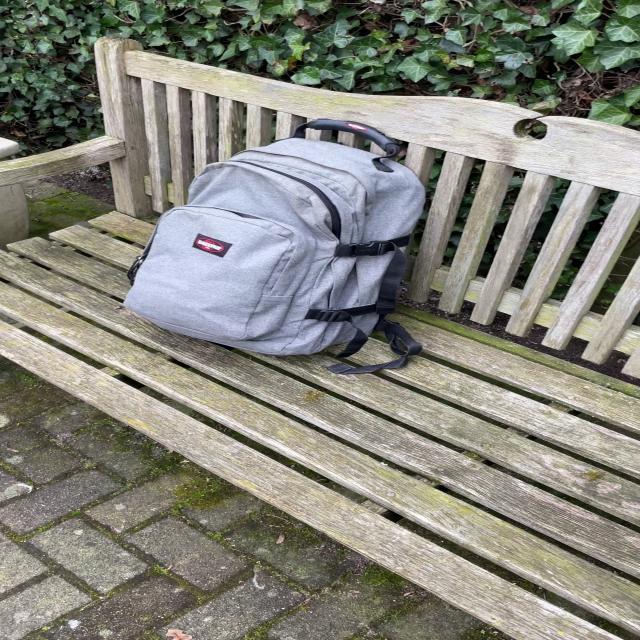backpack: (110, 116, 436, 362)
